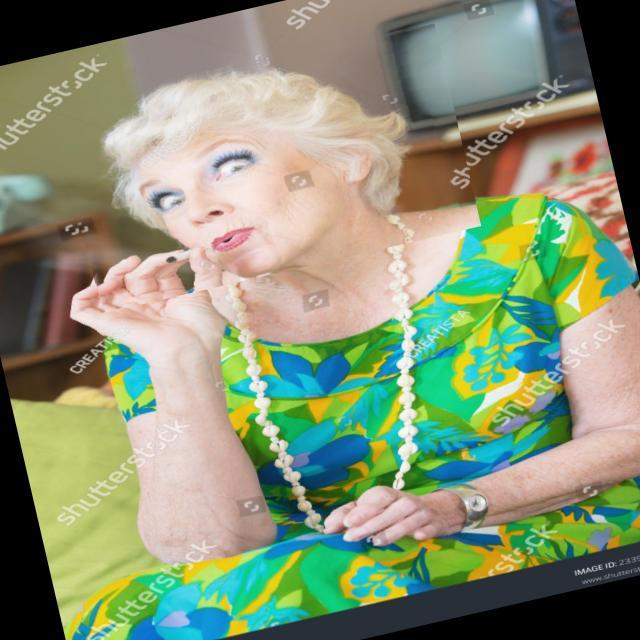cigarette: (134, 228, 212, 282)
